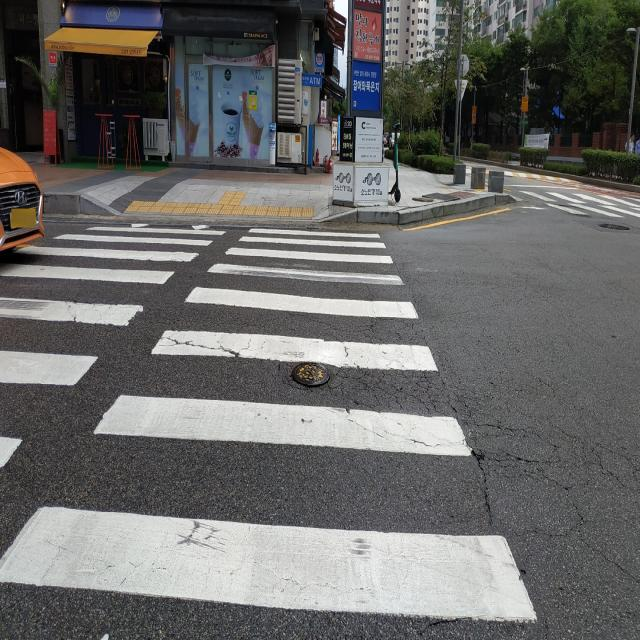횡단보도: (0, 222, 538, 626), (523, 187, 640, 230)
